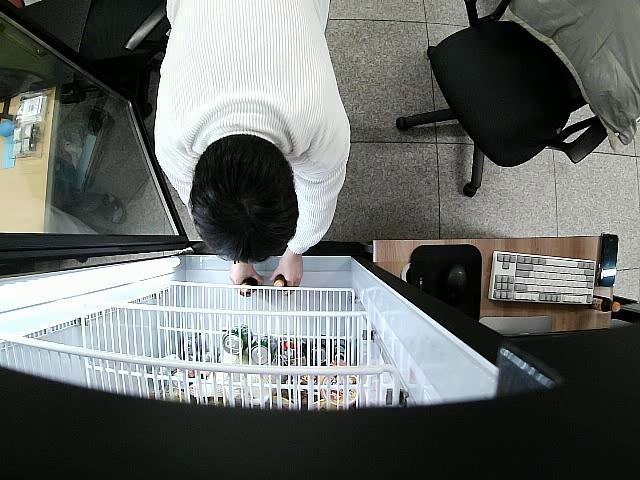17_vita500: (270, 274, 288, 295), (239, 278, 260, 296)
